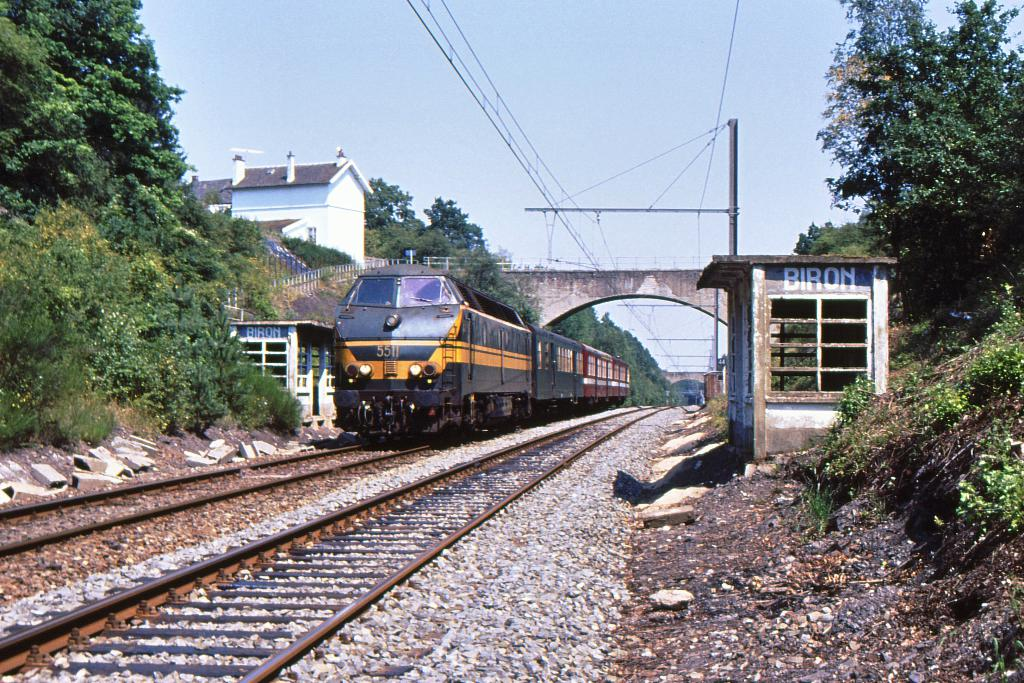train: (332, 251, 629, 448)
